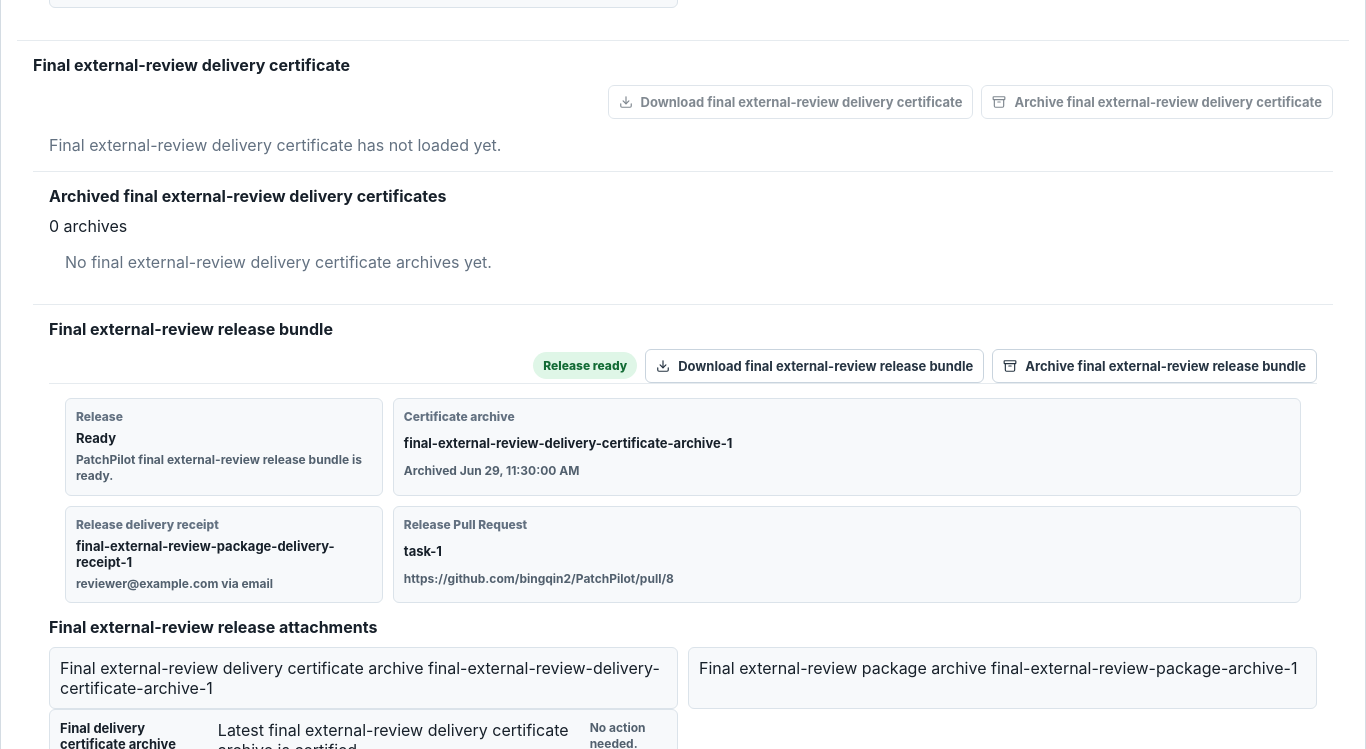
Test: shows and downloads final external-review release bundle
(page scrolled)
Expected: the heading "Final external-review release bundle" is shown, [49, 319, 333, 339]
Expected: the text "PatchPilot final external-review release bundle is ready." is shown, [76, 452, 372, 484]
Click the button "Download final external-review release bundle" at [815, 366], box [645, 349, 984, 383]
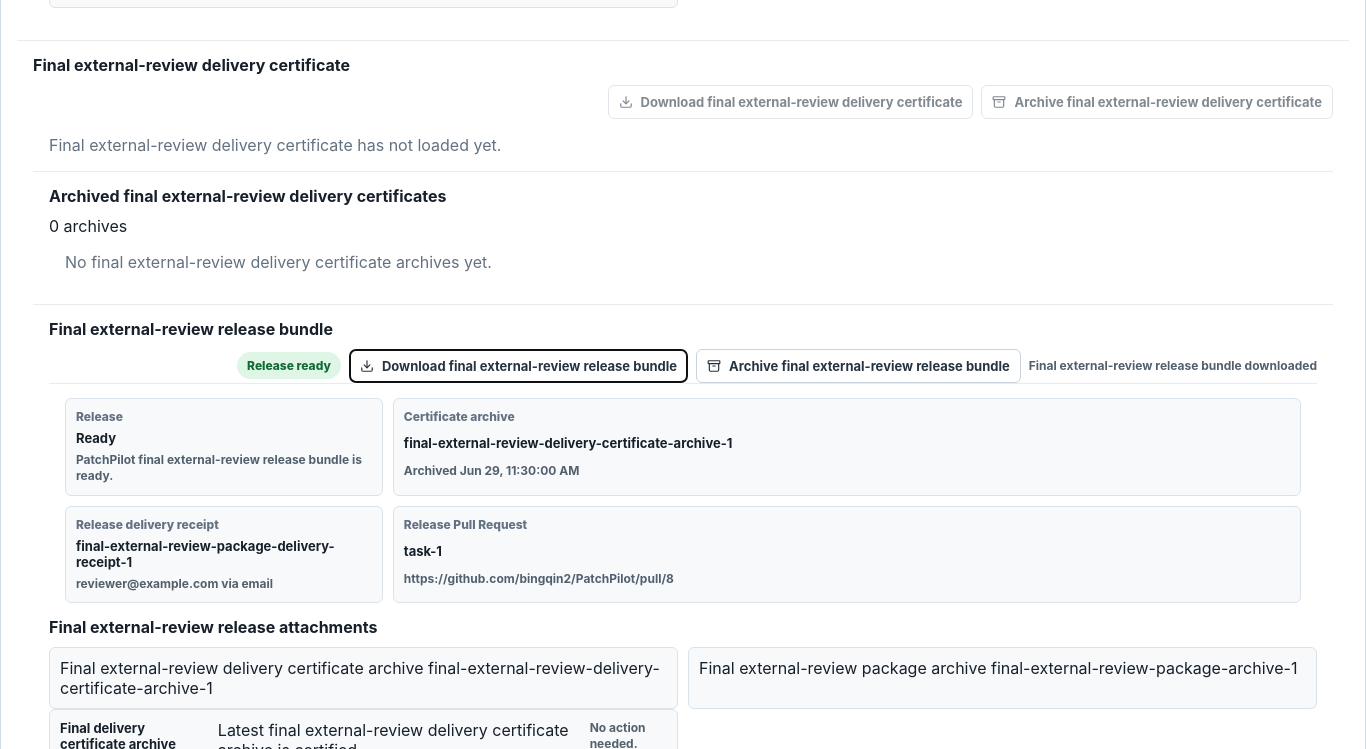
Expected: the text "Final external-review release bundle downloaded" is shown, [1029, 358, 1317, 373]
Click the button "Archive final external-review release bundle" at [858, 366], box [696, 349, 1021, 383]
(page scrolled)
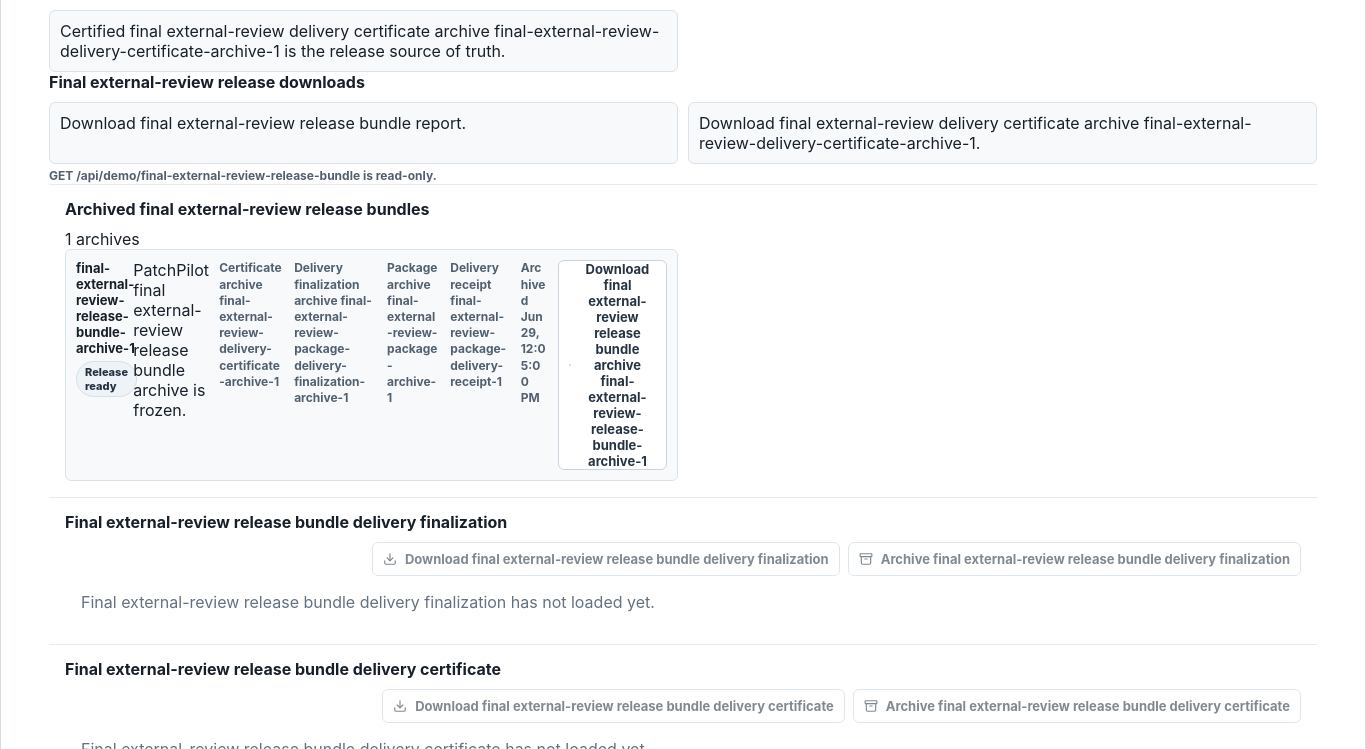
Click the button named "Download final external-review release bundle archive final-external-review-release-bundle-archive-1" at [613, 365], box [558, 260, 667, 470]
(page scrolled)
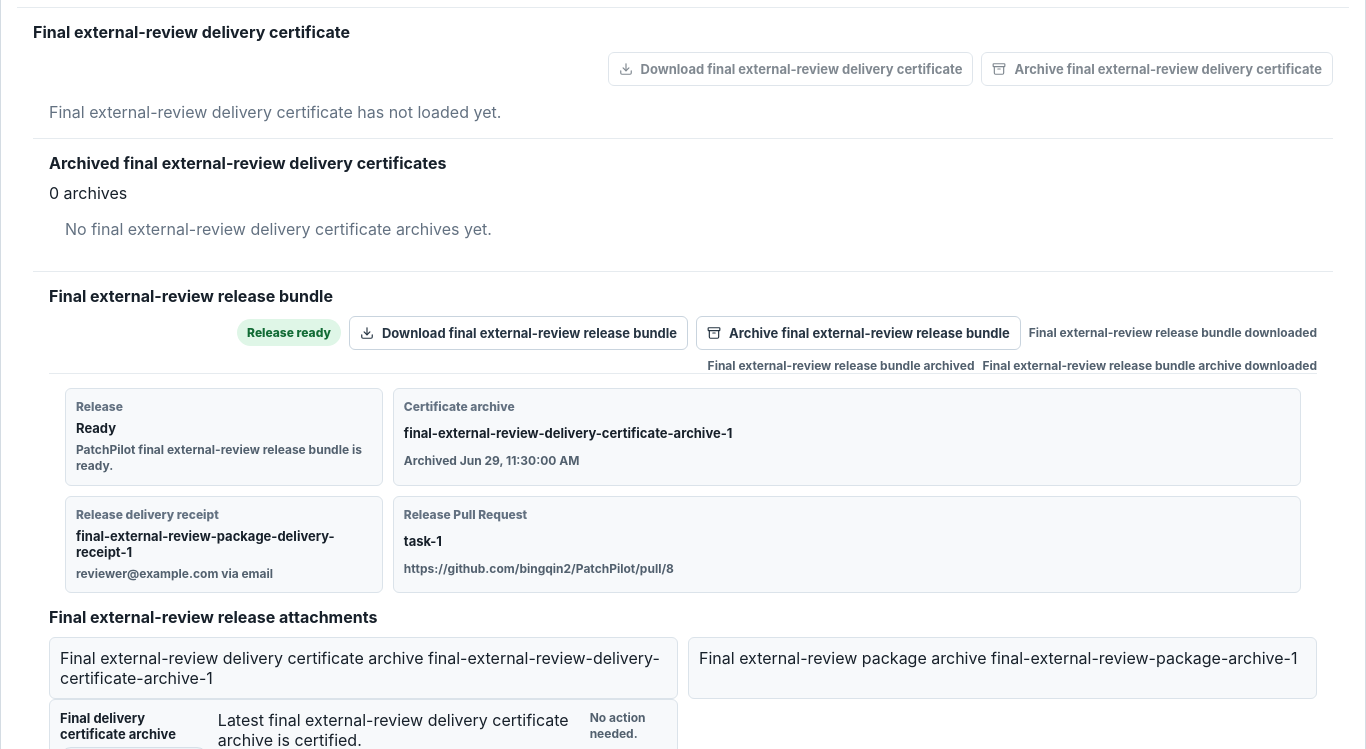
Expected: the text "Final external-review release bundle archived" is shown, [708, 358, 974, 373]
Expected: the text "Final external-review release bundle archive downloaded" is shown, [982, 358, 1317, 373]
